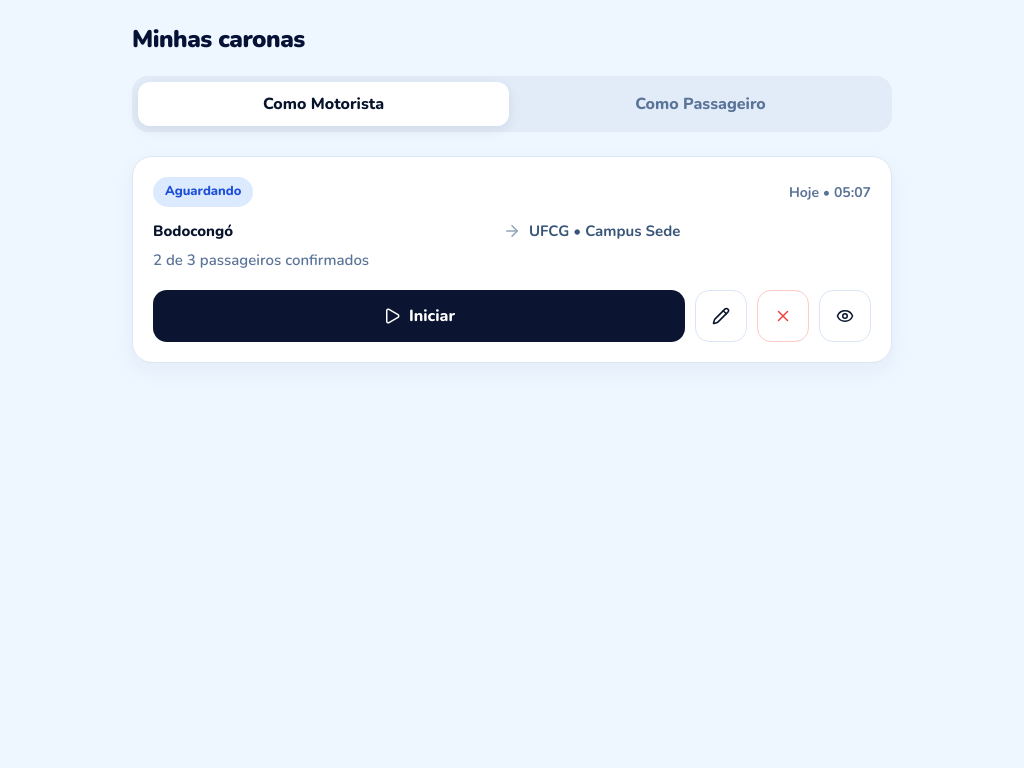
cancelamento › fechar o modal com "Voltar" não cancela a carona
Click the button named "cancelar carona".
click(783, 316)  # box x1=757 y1=290 x2=809 y2=342
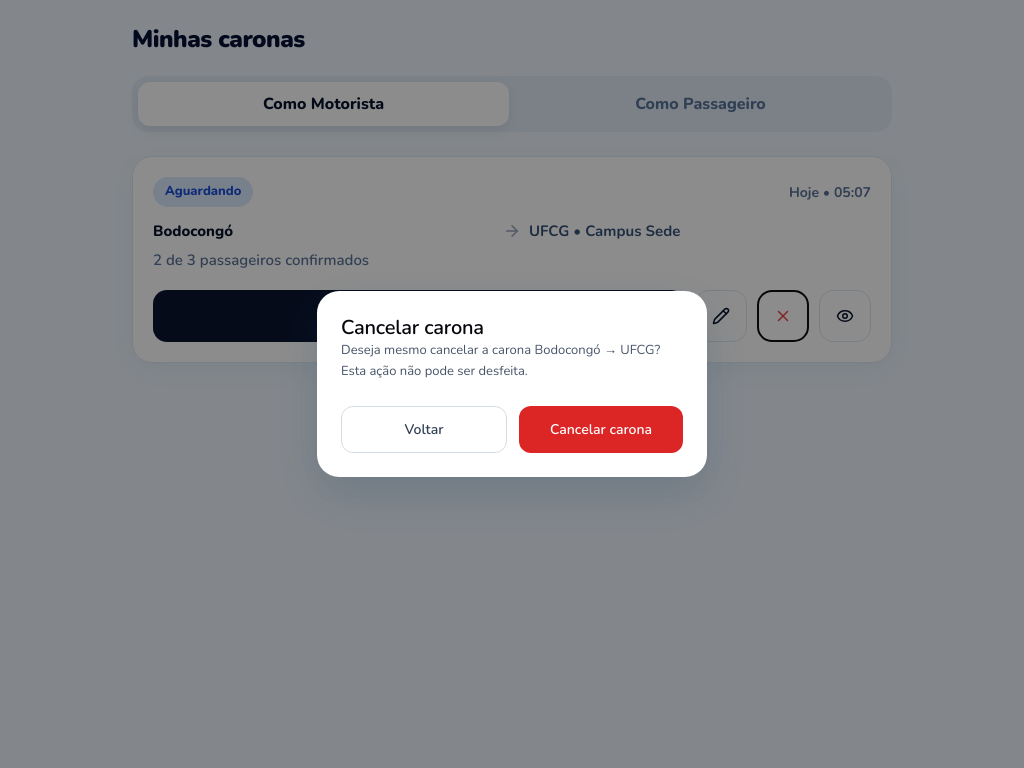
Click the button "Voltar".
click(424, 429)  # box x1=341 y1=406 x2=507 y2=453
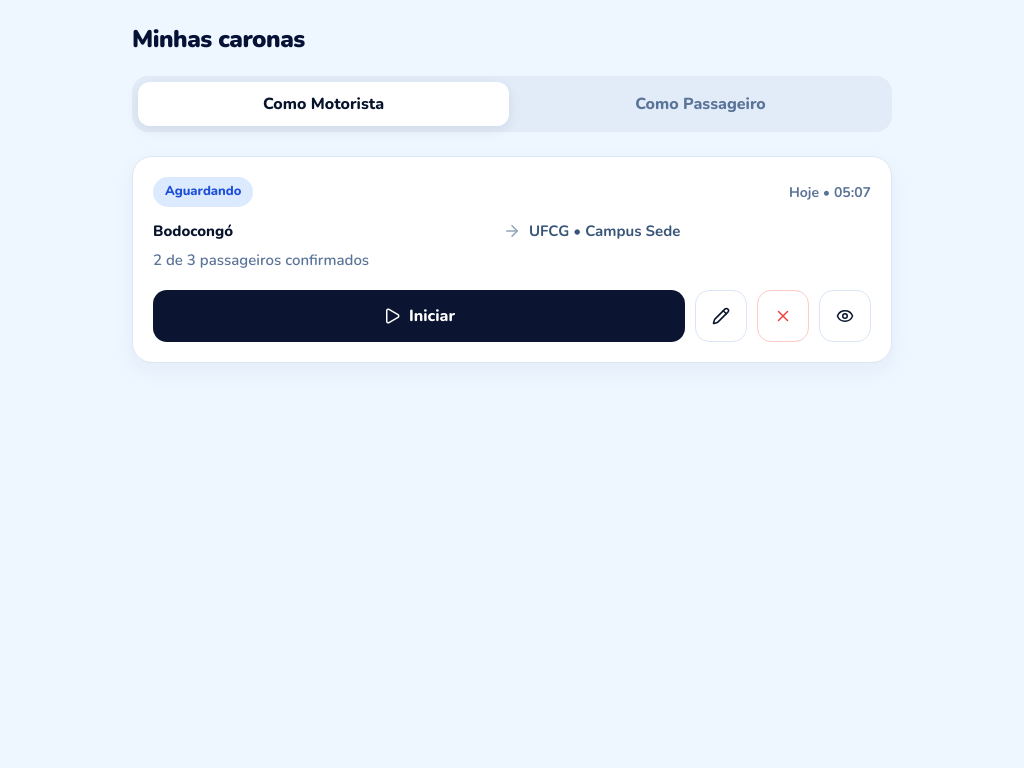
Result: the dialog is gone
